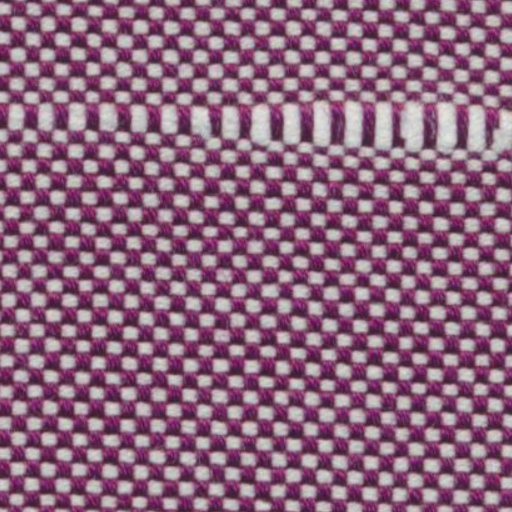DaiSha: (4, 82, 494, 164)
